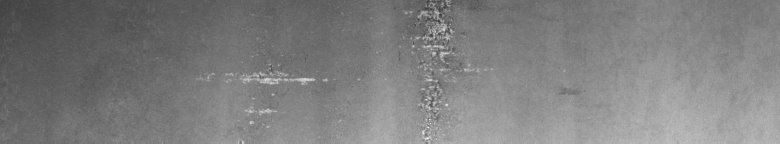hc: (399, 4, 487, 136)
